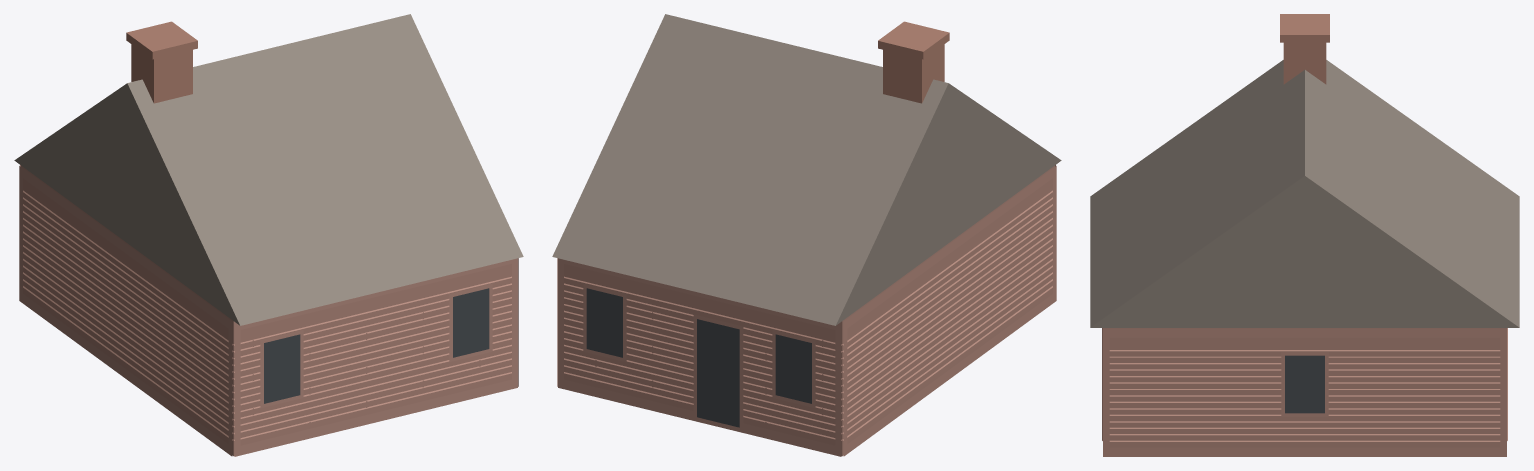
File: recon_1835_north_d4_025__inferred_1835.glb
The picture shows the model from 3 angles, left to right: view 1: azimuth 30°, elevation 25°; view 2: azimuth 150°, elevation 25°; view 3: azimuth 270°, elevation 25°; orthographic projection. The views are drawn at different scales.
Parts seen in each view (by area): view 1: recon_1835_north_d4_025__inferred_1835; view 2: recon_1835_north_d4_025__inferred_1835; view 3: recon_1835_north_d4_025__inferred_1835.
Part boxes in pixels (bbox=[...]): recon_1835_north_d4_025__inferred_1835: bbox=[14, 14, 523, 456]; recon_1835_north_d4_025__inferred_1835: bbox=[552, 14, 1061, 456]; recon_1835_north_d4_025__inferred_1835: bbox=[1090, 14, 1519, 456].
Size of the model in its own units: 6.18 by 6.85 by 8.43.
